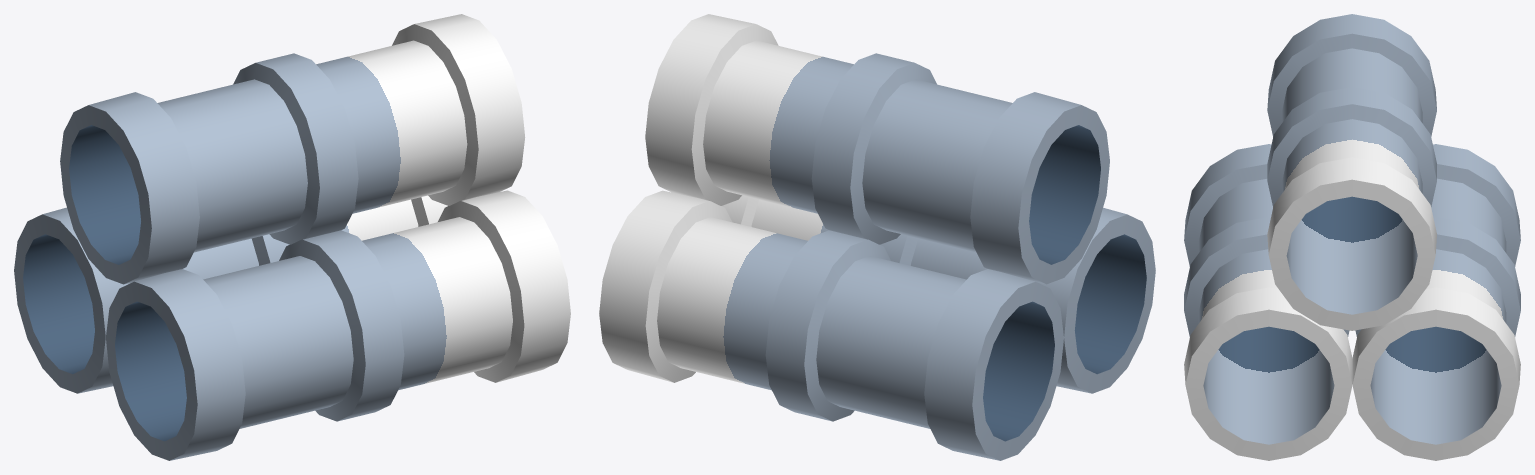
File: Refinado_PVC.fbx
3 renders of one model, left to right at view 1: azimuth 30°, elevation 25°; view 2: azimuth 150°, elevation 25°; view 3: azimuth 270°, elevation 25°, orthographic. The views are drawn at different scales.
Parts seen in each view (by area): view 1: Refinado_PVC; view 2: Refinado_PVC; view 3: Refinado_PVC.
Boxes of the visible parts, box(x1,y1,x2,y2) form: Refinado_PVC: box(14, 14, 570, 460); Refinado_PVC: box(599, 14, 1155, 460); Refinado_PVC: box(1184, 14, 1520, 460).
Bounding box in the file's own units: 201 × 160 × 172.
